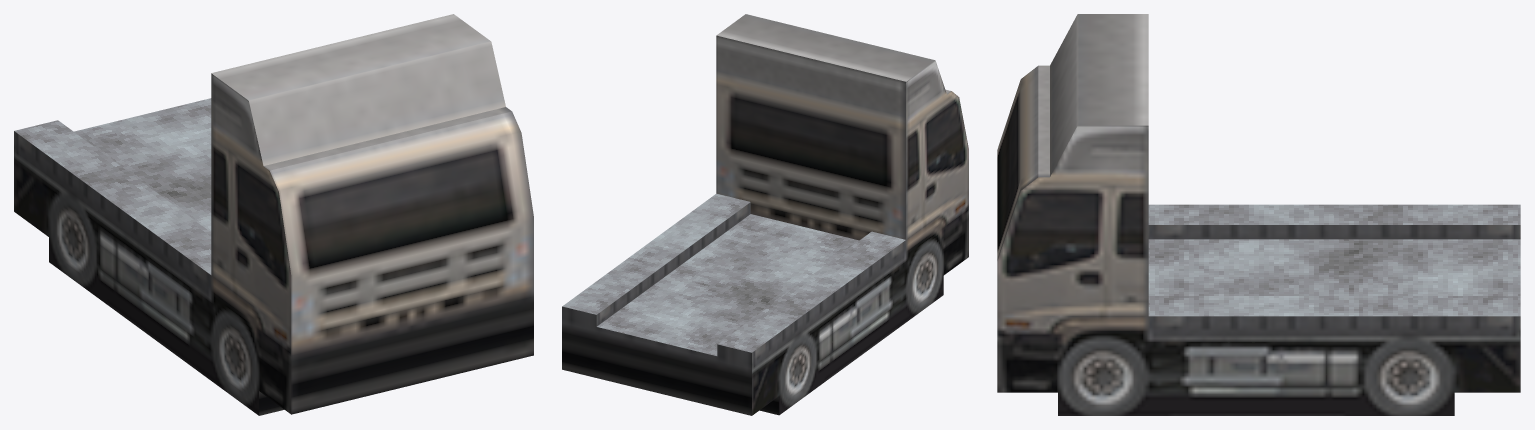
Rendered from truck_flat.glb.
The picture shows the model from 3 angles, left to right: view 1: azimuth 30°, elevation 25°; view 2: azimuth 150°, elevation 25°; view 3: azimuth 270°, elevation 25°; orthographic projection. The views are drawn at different scales.
Parts seen in each view (by area): view 1: truck_flat; view 2: truck_flat; view 3: truck_flat.
Part boxes in pixels (x1,y1,x2,y2): truck_flat: (14, 14, 533, 415); truck_flat: (562, 14, 968, 415); truck_flat: (997, 14, 1520, 415).
Bounding box in the file's own units: 0.83 × 1.01 × 1.64.
2 materials, 2 textured.
